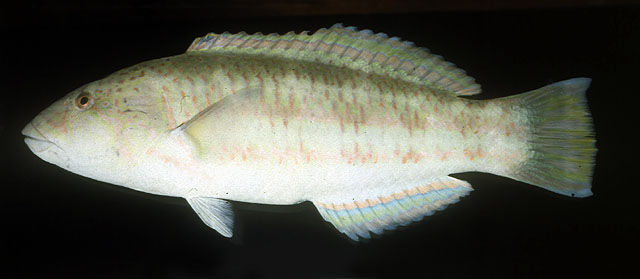fish: (21, 23, 598, 242)
